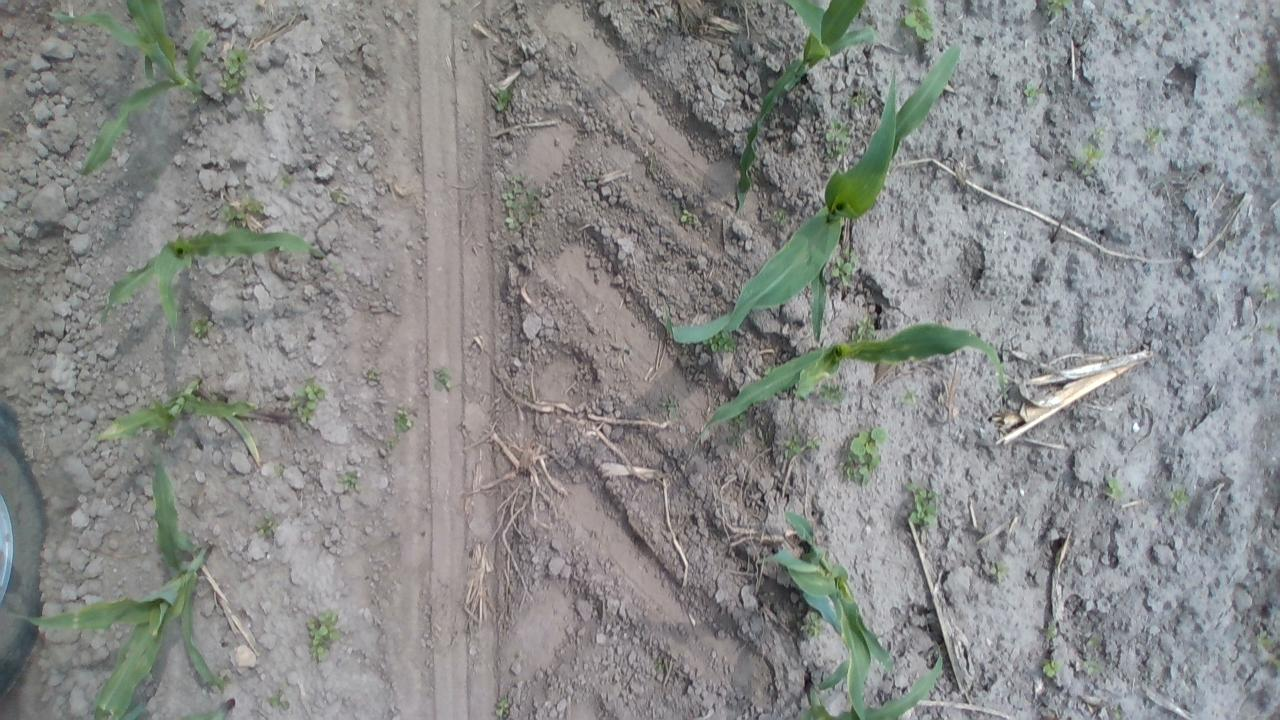Maize: (662, 38, 971, 350), (2, 450, 230, 720), (691, 322, 1012, 458), (730, 0, 886, 216), (759, 502, 903, 720), (42, 0, 218, 176), (95, 226, 328, 349), (91, 374, 288, 470), (785, 656, 950, 720), (123, 696, 244, 720)
Weeds: (840, 424, 887, 491), (501, 172, 548, 232), (302, 606, 342, 669), (900, 480, 944, 536), (1235, 61, 1276, 120), (289, 374, 330, 426), (217, 194, 276, 229), (215, 44, 252, 98), (896, 0, 940, 41), (1066, 140, 1111, 179), (826, 248, 860, 294), (821, 116, 854, 161), (1252, 633, 1280, 676), (332, 466, 368, 499), (782, 431, 824, 458), (854, 310, 886, 345), (702, 327, 742, 354), (986, 556, 1018, 589), (389, 404, 418, 439), (1164, 485, 1192, 520), (255, 510, 282, 546), (490, 82, 517, 118), (817, 381, 848, 410), (847, 88, 876, 117), (430, 364, 456, 396), (726, 413, 748, 450), (1036, 0, 1074, 21), (322, 185, 353, 210), (800, 612, 826, 641), (268, 686, 296, 712), (1018, 76, 1039, 110), (1036, 654, 1064, 679), (490, 693, 515, 720), (678, 210, 706, 234), (382, 430, 406, 457), (896, 386, 923, 410), (242, 94, 270, 116), (1144, 124, 1164, 154), (186, 314, 212, 337), (1104, 476, 1125, 503), (1256, 282, 1280, 305), (766, 206, 791, 228), (271, 456, 290, 484), (363, 366, 386, 389), (276, 168, 296, 194), (656, 395, 680, 416), (1082, 659, 1108, 678), (649, 650, 664, 676), (1042, 619, 1058, 640), (1109, 704, 1128, 720), (1086, 635, 1103, 652), (1260, 322, 1278, 338)
